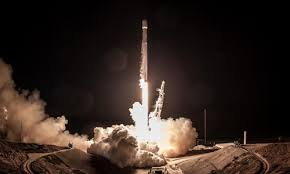ten_lua: (140, 16, 150, 83)
